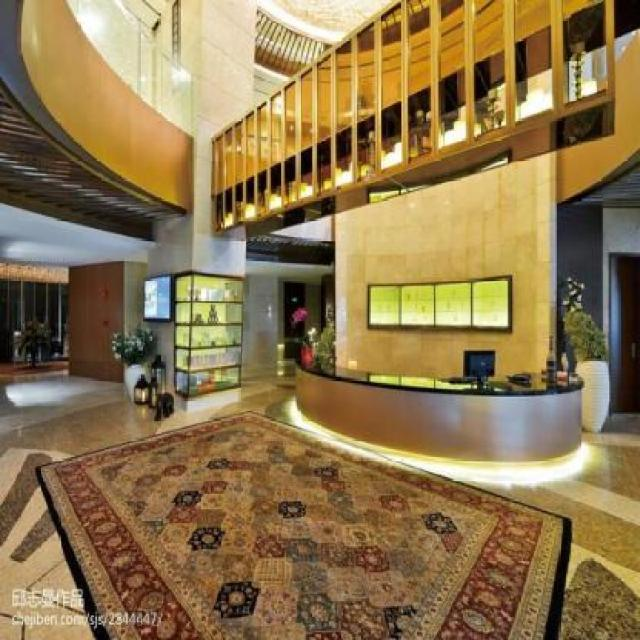frontdesk: (288, 340, 597, 483)
